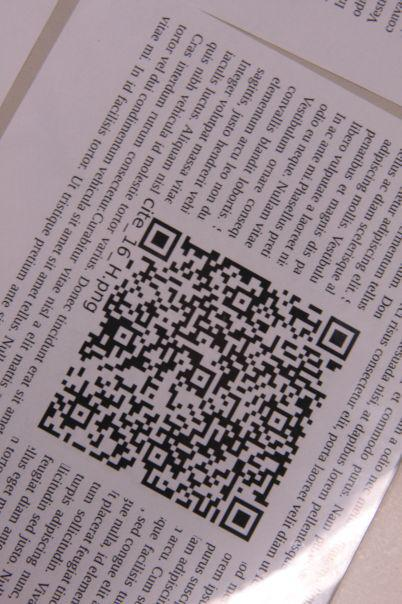Finder pattern: (216, 495, 268, 545), (134, 215, 186, 263), (314, 316, 363, 362)
